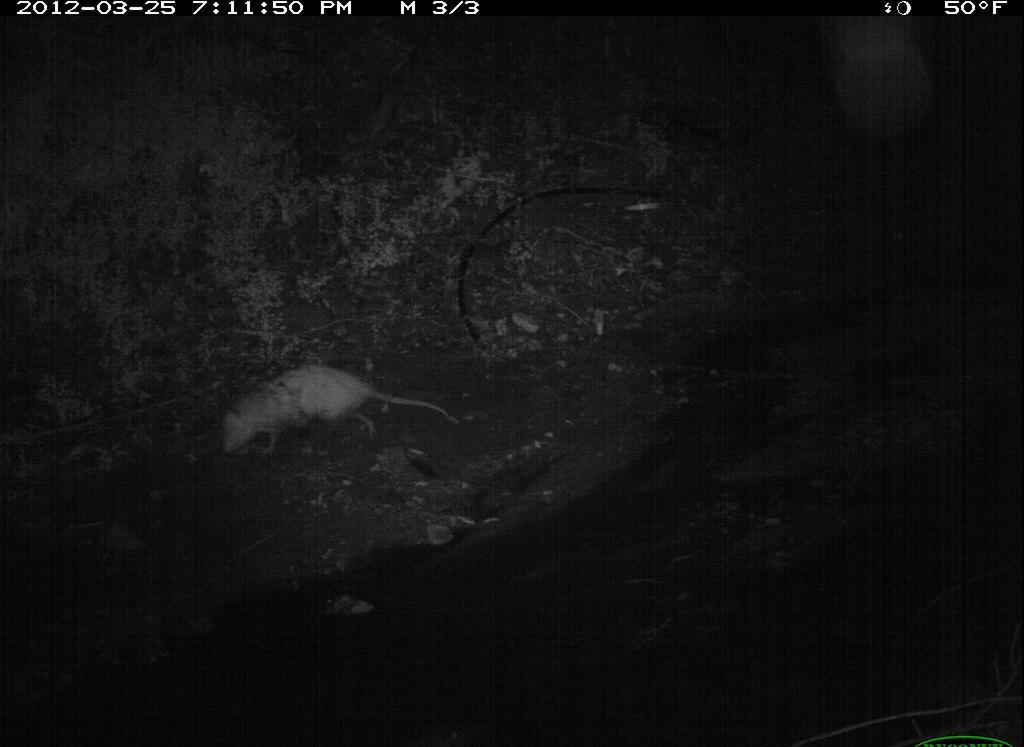opossum: (216, 345, 468, 468)
